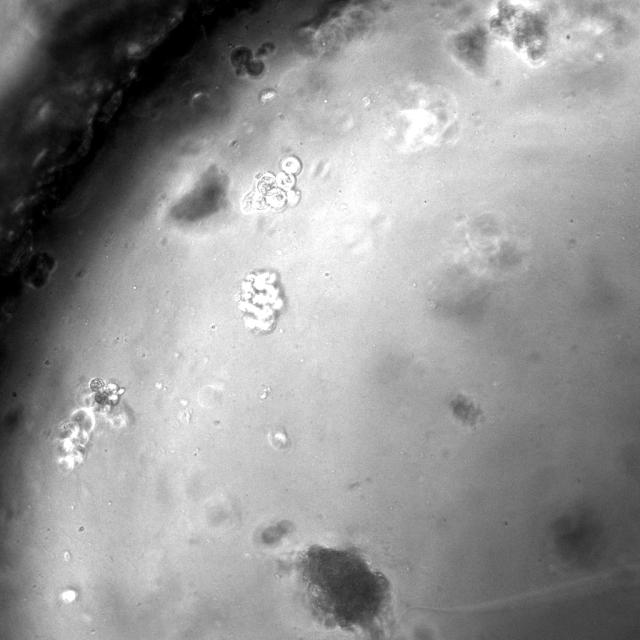organoid: (298, 545, 389, 636), (52, 378, 129, 472), (451, 0, 548, 70), (242, 157, 300, 210), (236, 271, 283, 332), (229, 46, 264, 77)
